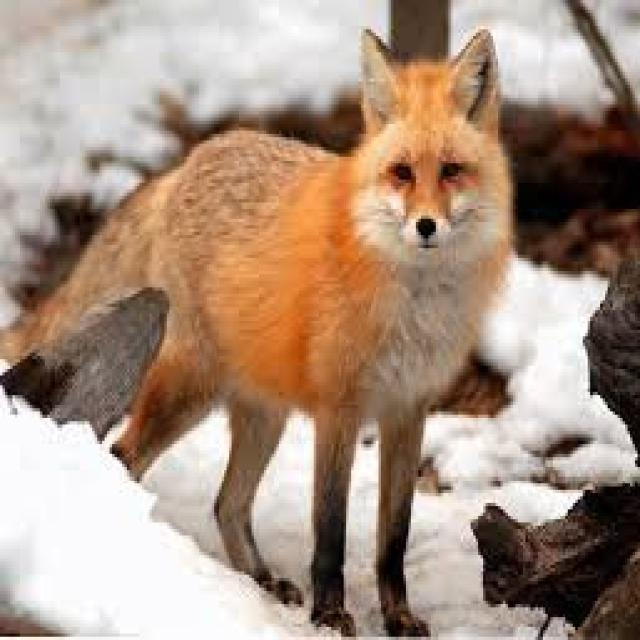fox: (0, 23, 515, 637)
